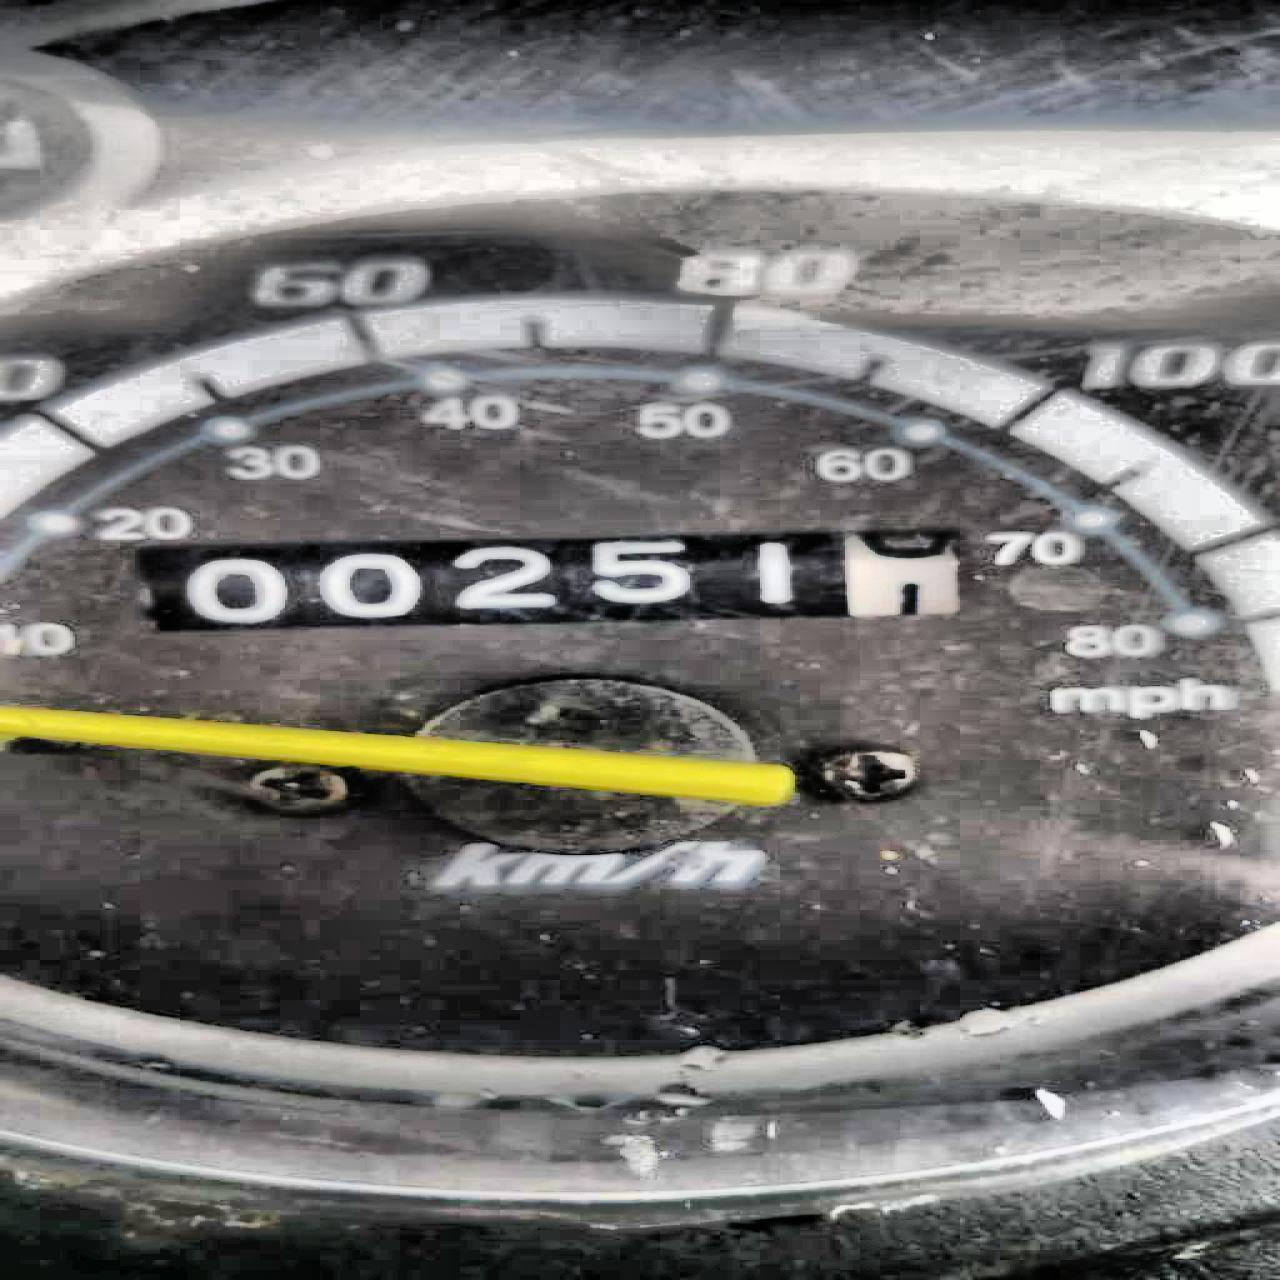0: (185, 547, 287, 626), (313, 551, 428, 619), (145, 505, 195, 540)
1: (735, 530, 821, 618), (880, 568, 949, 629)
2: (448, 542, 554, 613)
5: (580, 531, 697, 600)
odometer: (132, 506, 989, 638)
